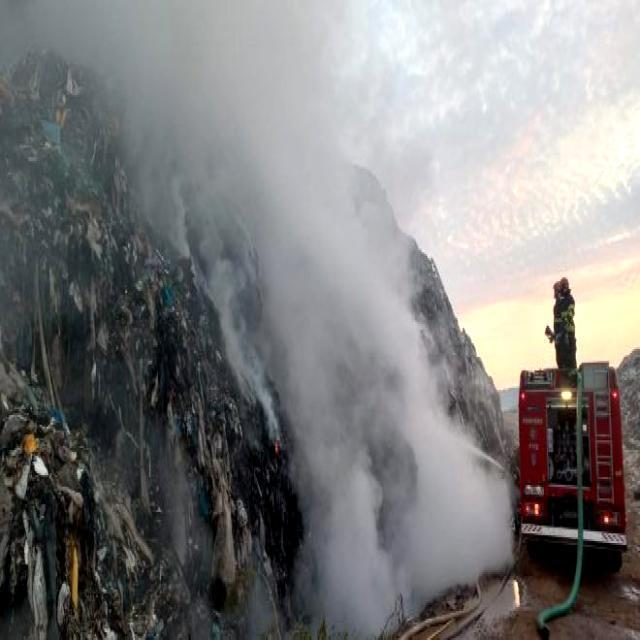Smoke: (86, 0, 500, 595)
